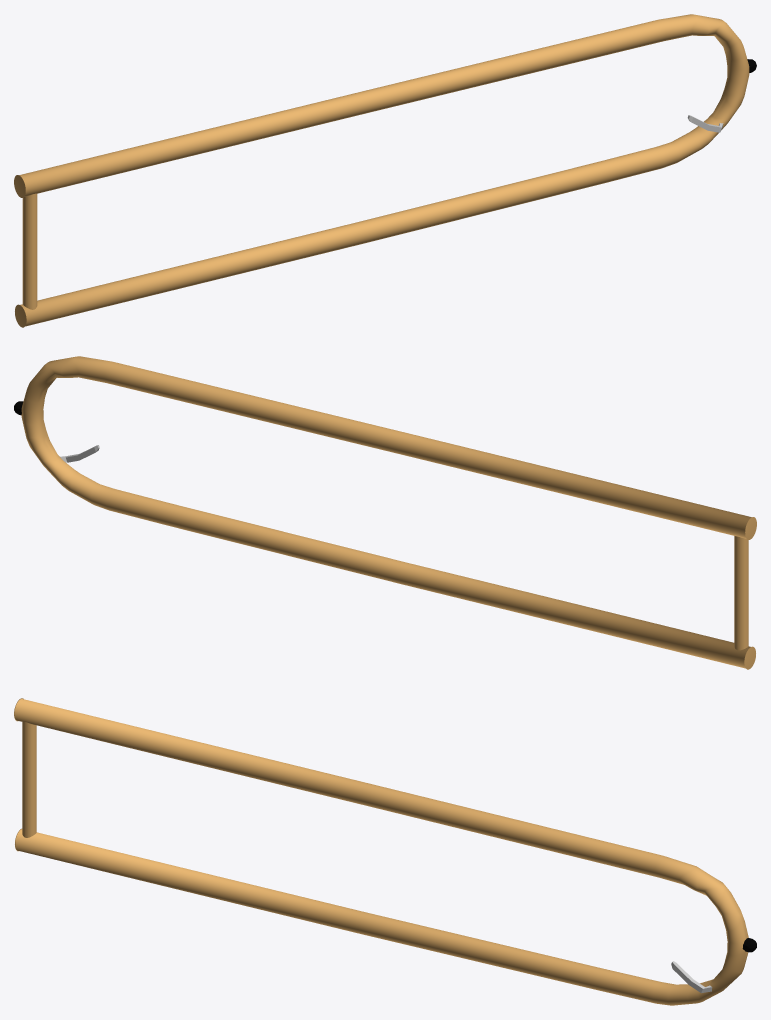
The model's file is trombone_slide.gltf.
3 views of the same model, one above another, from view 1: azimuth 30°, elevation 25°; view 2: azimuth 150°, elevation 25°; view 3: azimuth 330°, elevation 25° (orthographic).
Visible parts, largest first — view 1: Cylinder.001; view 2: Cylinder.001; view 3: Cylinder.001.
Boxes of the visible parts, x1=… form: Cylinder.001: x1=14, y1=14, x2=756, y2=327; Cylinder.001: x1=14, y1=356, x2=756, y2=669; Cylinder.001: x1=14, y1=698, x2=756, y2=1005.
Bounding box in the file's own units: 5.78 × 1.13 × 0.2126.
